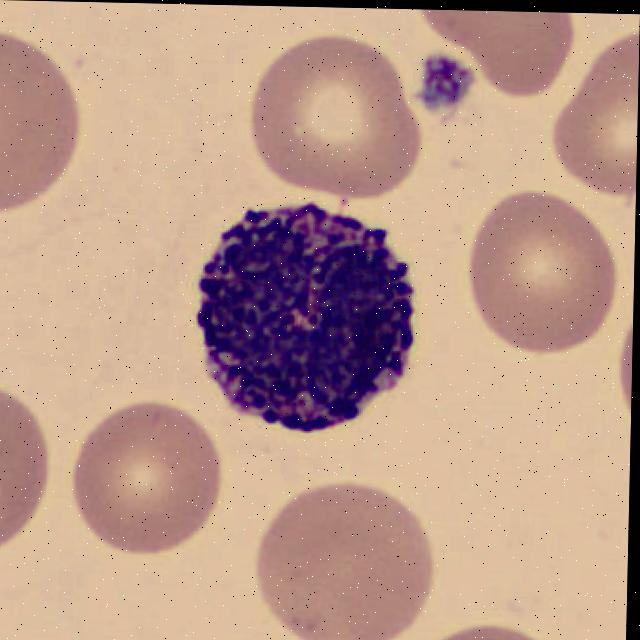basophil: (186, 190, 433, 437)
rbc: (243, 29, 433, 197), (241, 485, 435, 640), (66, 389, 225, 559), (0, 35, 94, 231), (552, 21, 640, 217), (420, 9, 572, 107), (0, 362, 53, 563), (411, 43, 487, 119), (420, 606, 556, 640), (0, 0, 56, 23)
